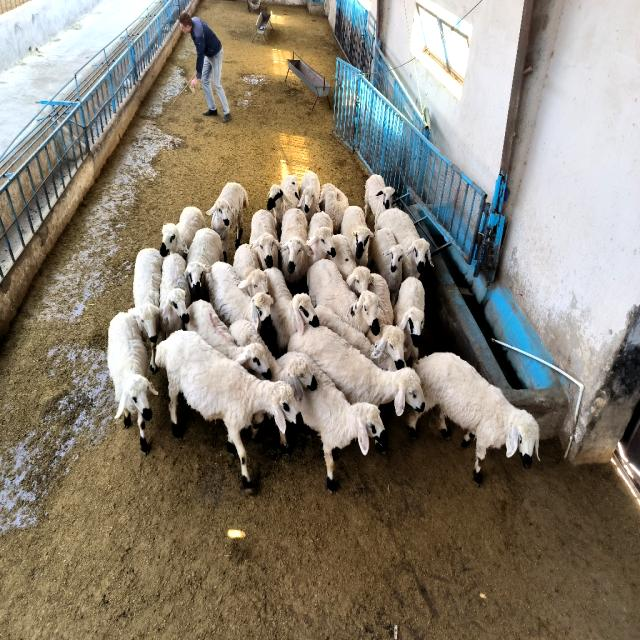sheep: (156, 332, 299, 488), (414, 353, 539, 484), (289, 327, 425, 414), (300, 363, 385, 491), (229, 318, 318, 400), (108, 312, 158, 453), (186, 300, 270, 380), (308, 258, 380, 335), (265, 268, 319, 355), (208, 262, 272, 335), (129, 248, 162, 372), (376, 208, 430, 278), (368, 273, 405, 368), (206, 183, 248, 261), (185, 228, 224, 301), (394, 277, 425, 367), (371, 228, 405, 304), (280, 208, 312, 286), (160, 253, 190, 336), (331, 235, 371, 296), (161, 207, 206, 258), (341, 207, 374, 266), (266, 175, 299, 234), (234, 243, 268, 297), (250, 210, 279, 269), (319, 183, 349, 233), (308, 212, 336, 264), (365, 175, 395, 222), (299, 172, 320, 222)
